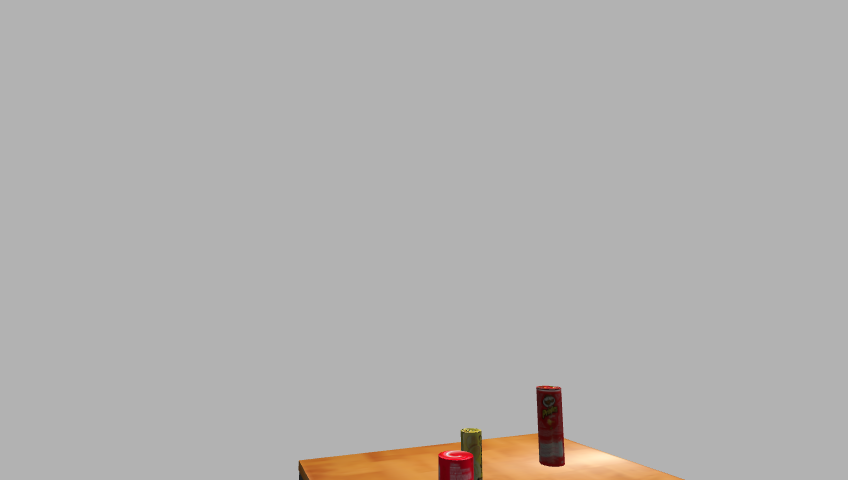biscuits pack: (460, 427, 483, 480)
coke can: (437, 451, 475, 480)
dinner table: (286, 432, 723, 480)
pringles can: (533, 385, 566, 468)
